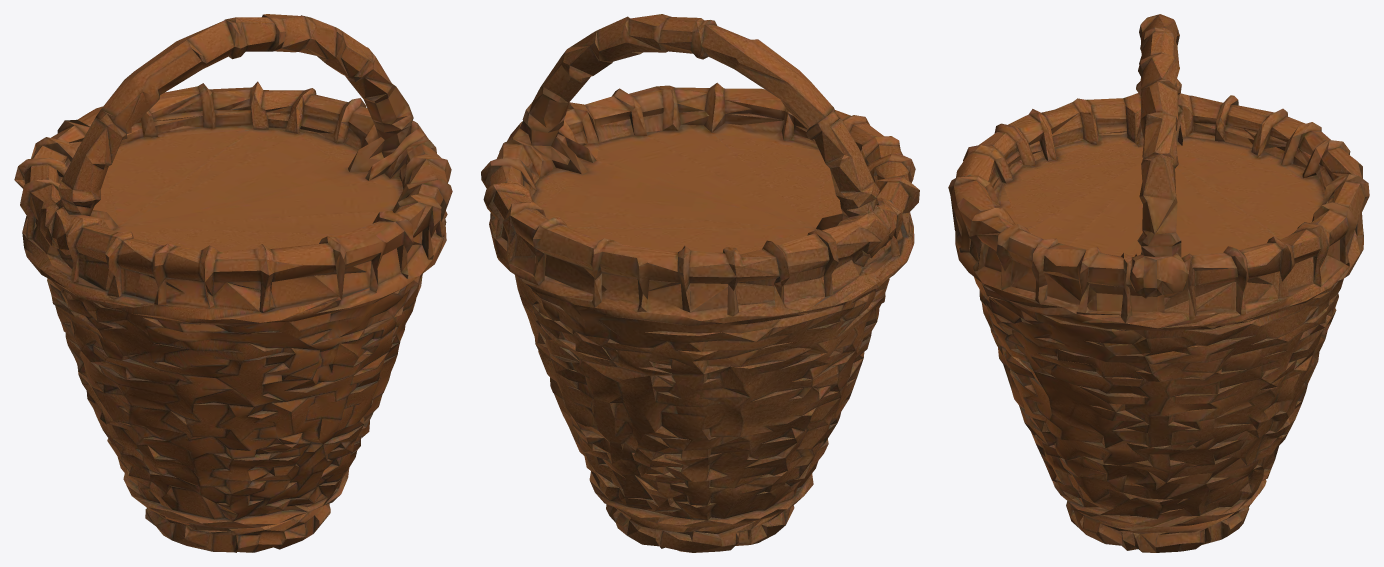
Rendered from basket.glb.
3 renders of one model, left to right at view 1: azimuth 30°, elevation 25°; view 2: azimuth 150°, elevation 25°; view 3: azimuth 270°, elevation 25°, orthographic. The views are drawn at different scales.
Visible parts, largest first — view 1: mesh_node; view 2: mesh_node; view 3: mesh_node.
Boxes of the visible parts, x1,y1,x2,y2 form: mesh_node: (14, 14, 452, 552); mesh_node: (481, 14, 919, 552); mesh_node: (948, 14, 1369, 552).
Size of the model in its own units: 1.5 by 1.9 by 1.48.
Materials: 1 (1 with a texture image).
